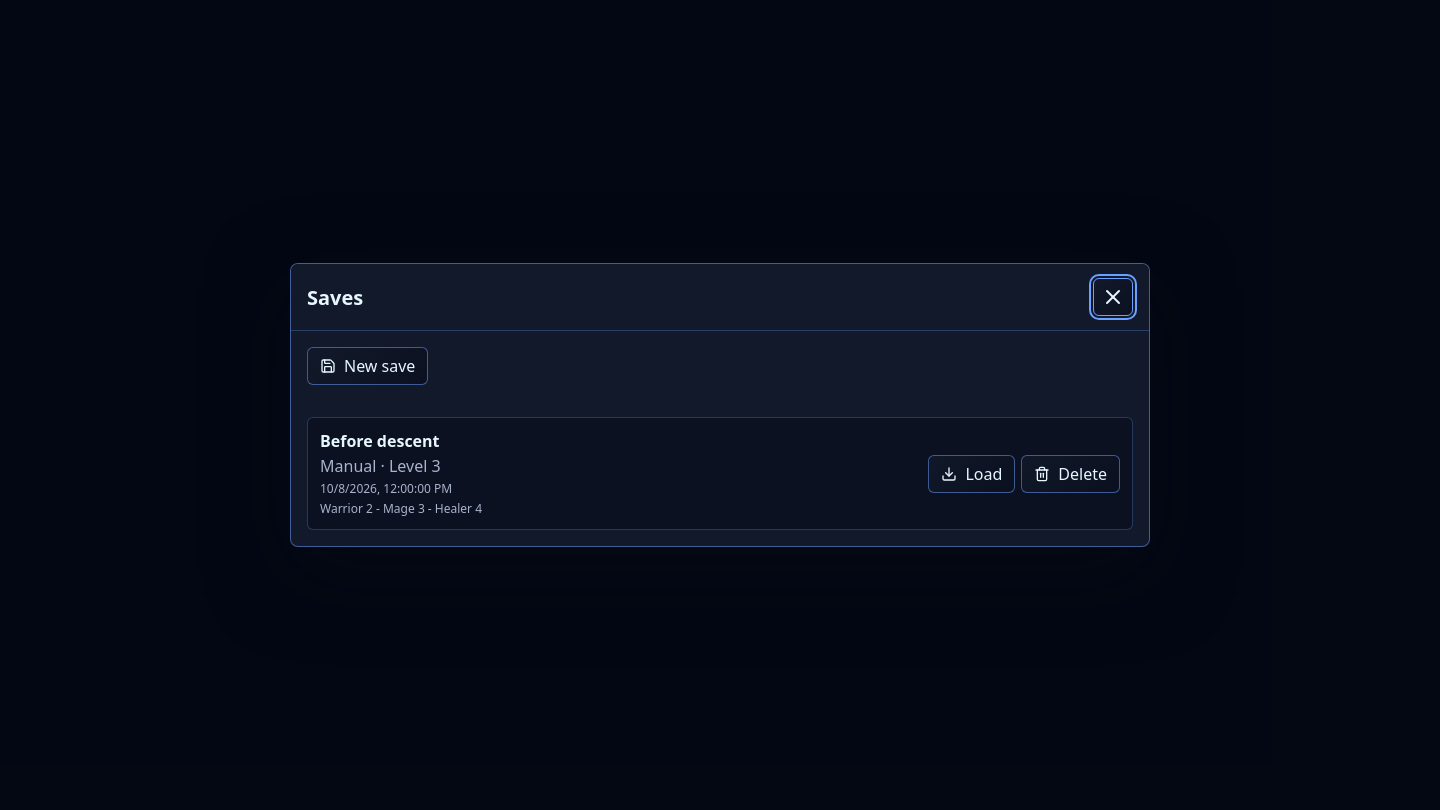
Scenario: save and dialog safety › keeps a failed deletion visible and retryable
This screenshot has width=1440, height=810.
What coordinates should you click on to do the following:
click the button "Delete"
I would click on:
 (1071, 474)
Its box is [1021,454,1120,492].
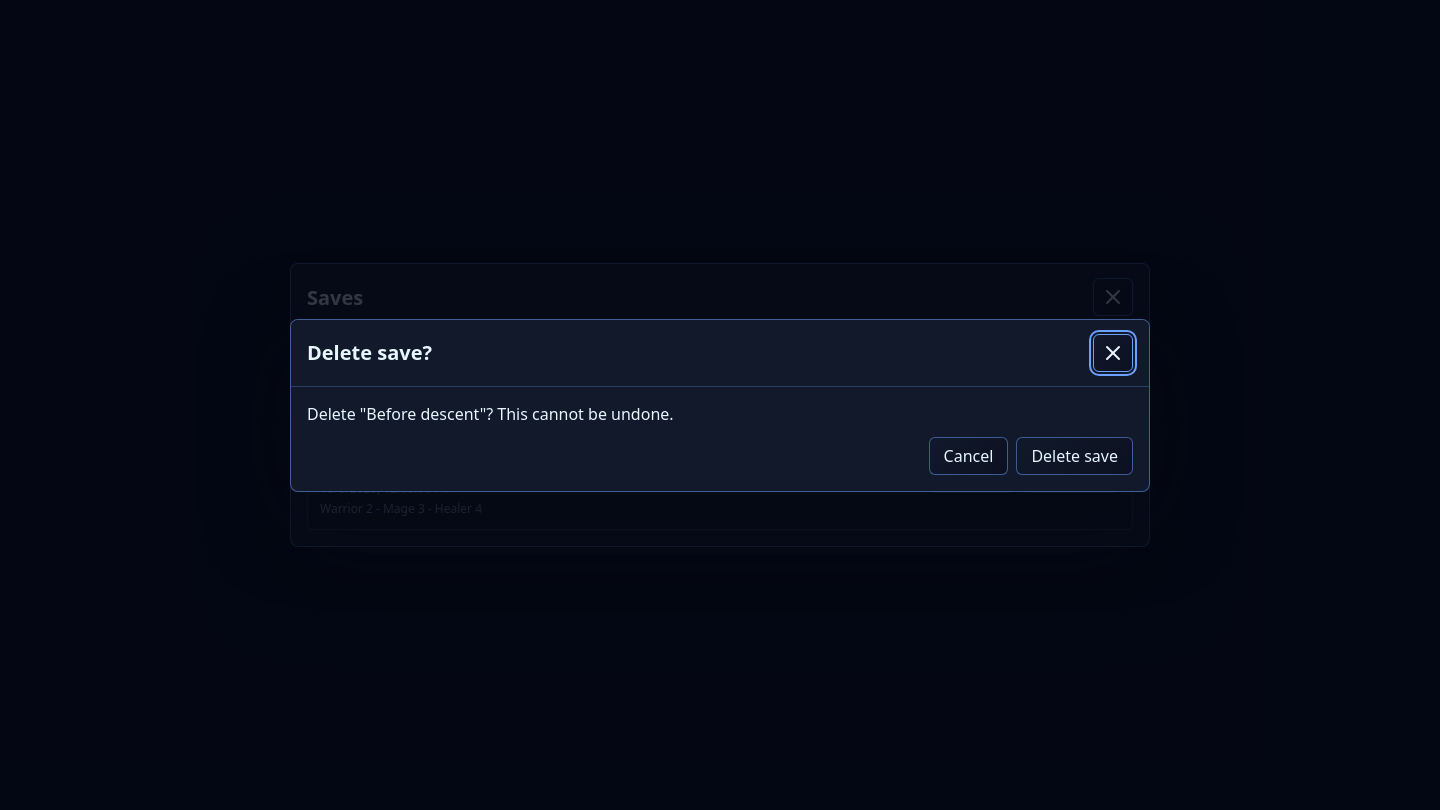
What coordinates should you click on to do the following:
click the button "Delete save"
I would click on:
 (1075, 456)
Its box is [1016,436,1133,474].
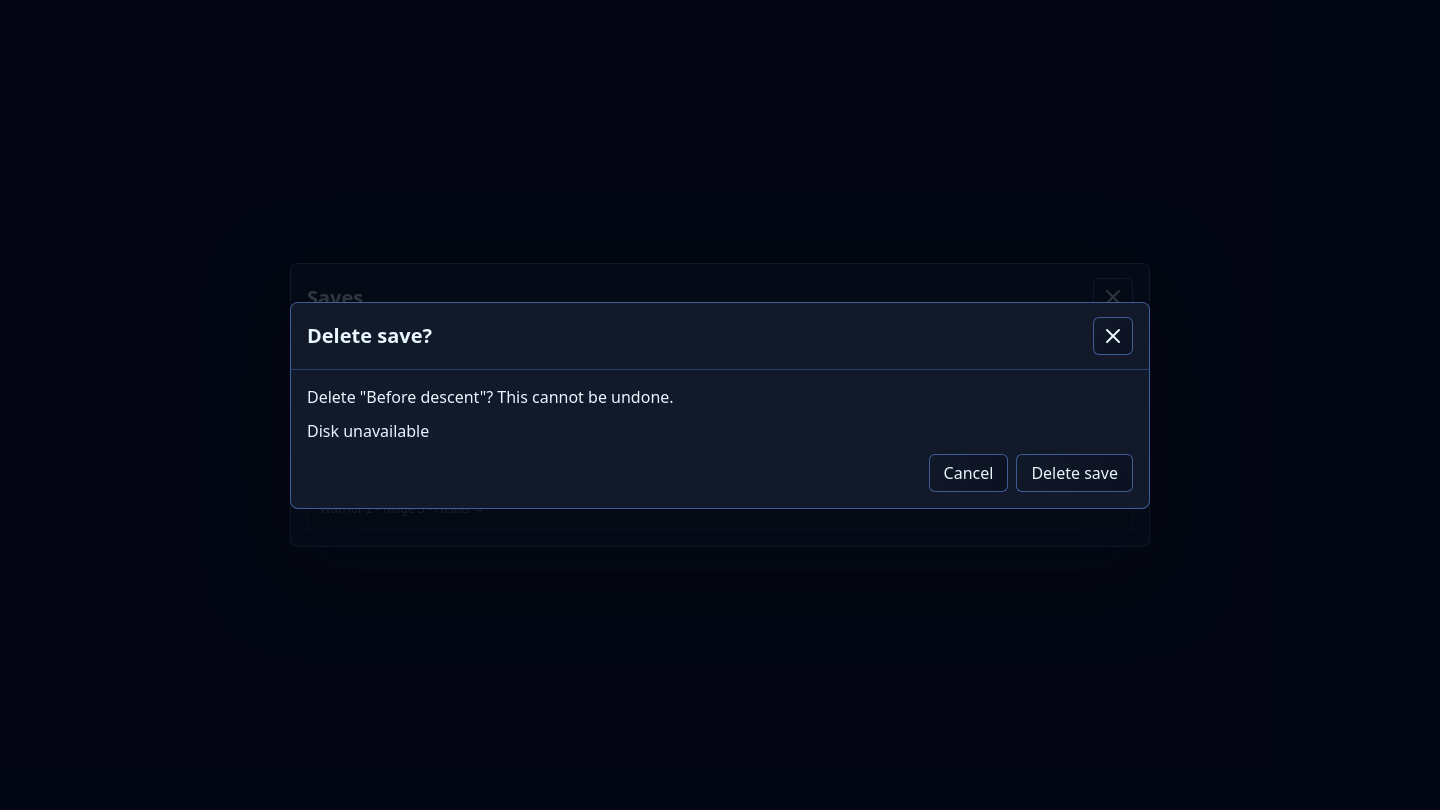
Now the button "Delete save" is enabled, box [1016,454,1133,492]
Now the message reads "Disk unavailable", box [307,420,429,442]
